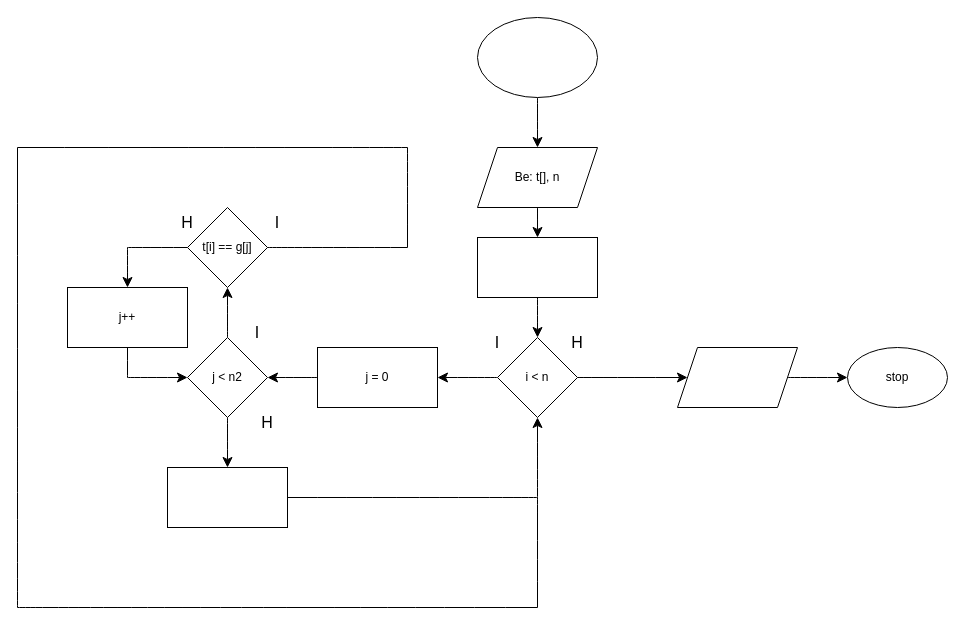
Some shapes in this 965 by 626 pixel diagram are drawn without their labels. Each missing label, with the centre of its shape:
"g.push(t[i])" goes at point 227,497.
"i = 0 ,g[], n2" goes at point 537,267.
"ki: g[]" goes at point 737,377.
"start" goes at point 537,57.
